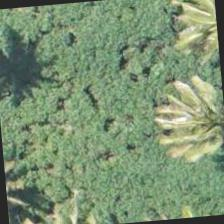Kelapa_Sawit: (160, 77, 223, 173)
